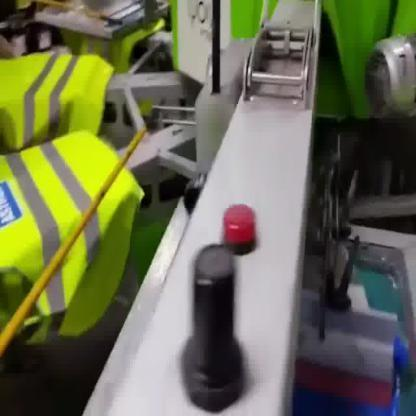vest: (0, 128, 146, 344), (0, 50, 116, 152)
